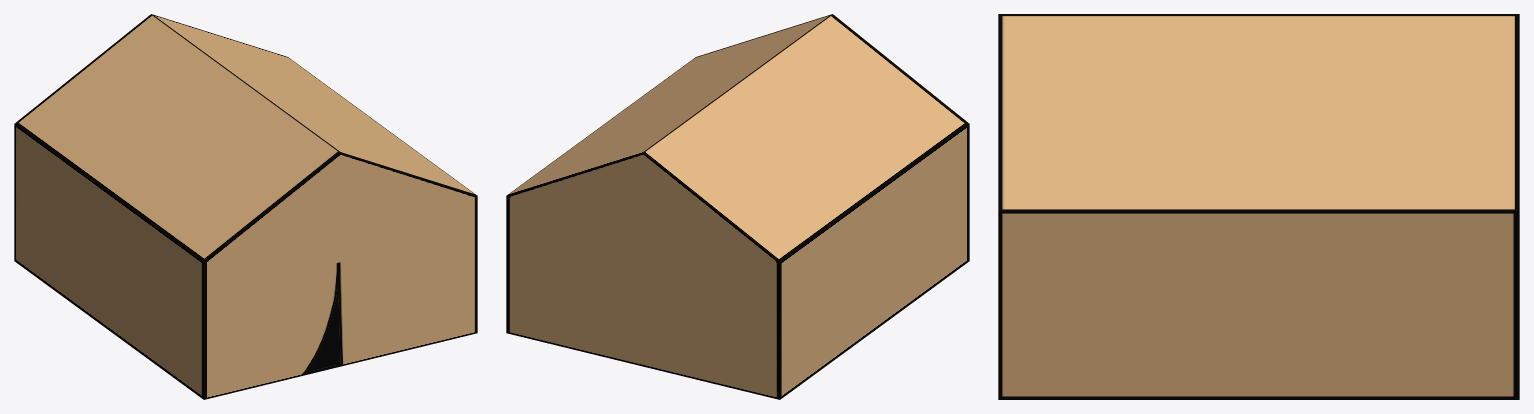
Rendered from barracks.gltf.
The picture shows the model from 3 angles, left to right: view 1: azimuth 30°, elevation 25°; view 2: azimuth 150°, elevation 25°; view 3: azimuth 270°, elevation 25°; orthographic projection. The views are drawn at different scales.
Parts seen in each view (by area): view 1: Cube; view 2: Cube; view 3: Cube.
Boxes of the visible parts, x1,y1,x2,y2 form: Cube: [14, 14, 477, 399]; Cube: [506, 14, 969, 399]; Cube: [998, 14, 1519, 399].
Size of the model in its own units: 25 by 18.67 by 30.
Materials: 1 (1 with a texture image).
